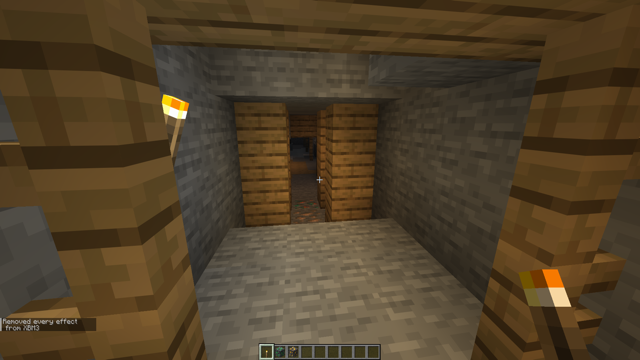copper: (291, 197, 322, 211)
iron: (293, 211, 325, 224)
